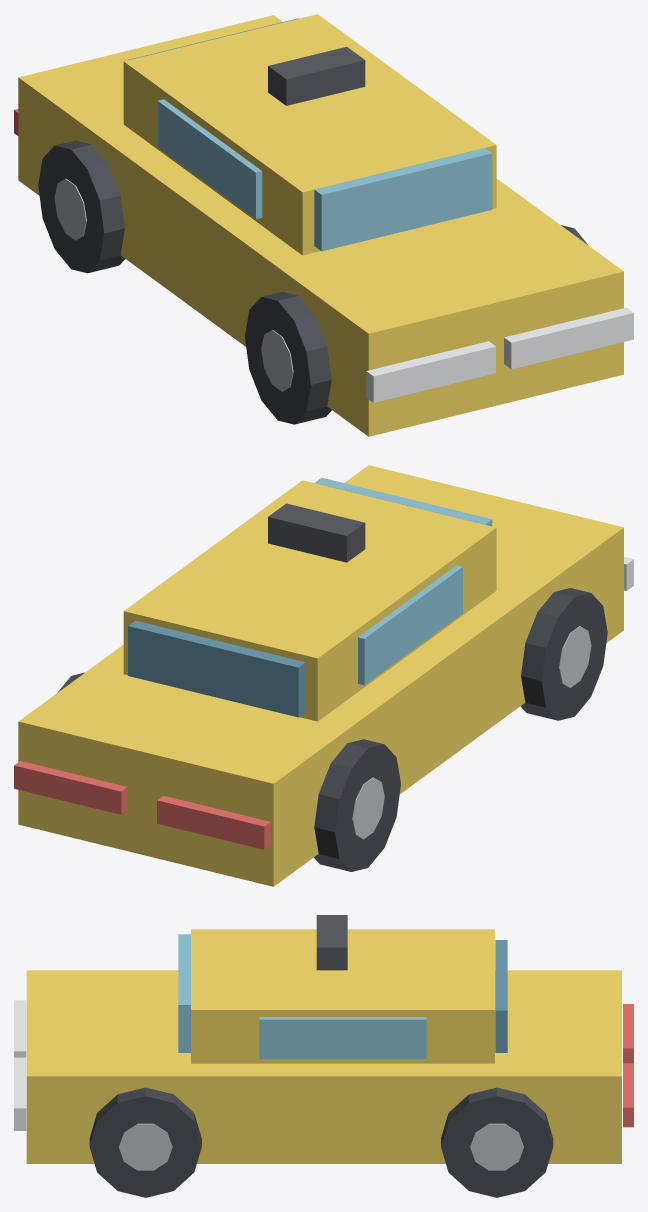
The model's file is traffic_taxi_yellow.glb.
3 renders of one model, top to bottom at view 1: azimuth 30°, elevation 25°; view 2: azimuth 150°, elevation 25°; view 3: azimuth 270°, elevation 25°, orthographic. The views are drawn at different scales.
Parts seen in each view (by area): view 1: body_0, roof_1, windshield_2, wheel_RL_10, wheel_FL_6, side_glass_L_4, headlight_R_15, headlight_L_14, taxi_sign_18, rim_RL_11, rim_FL_7; view 2: body_0, roof_1, rear_glass_3, wheel_RL_10, wheel_FL_6, side_glass_L_4, taxi_sign_18, taillight_L_16, taillight_R_17, rim_RL_11, rim_FL_7, windshield_2; view 3: body_0, roof_1, wheel_RR_12, wheel_FR_8, side_glass_R_5, rim_FR_9, rim_RR_13, taxi_sign_18, windshield_2, rear_glass_3, headlight_R_15, headlight_L_14 (+2 smaller).
Boxes of the visible parts, box(x1,y1,x2,y2) form: body_0: box(18, 15, 623, 436); roof_1: box(123, 14, 496, 255); windshield_2: box(314, 148, 492, 251); wheel_RL_10: box(38, 140, 124, 273); wheel_FL_6: box(245, 292, 331, 424); side_glass_L_4: box(157, 99, 262, 219); headlight_R_15: box(504, 307, 633, 369); headlight_L_14: box(366, 341, 495, 402); taxi_sign_18: box(268, 46, 365, 105); rim_RL_11: box(54, 178, 86, 240); rim_FL_7: box(261, 330, 293, 391); body_0: box(18, 465, 623, 886); roof_1: box(123, 480, 496, 721); rear_glass_3: box(128, 620, 305, 717); wheel_RL_10: box(314, 739, 400, 871); wheel_FL_6: box(520, 588, 607, 720); side_glass_L_4: box(358, 565, 462, 685); taxi_sign_18: box(268, 503, 365, 562); taillight_L_16: box(157, 795, 270, 849); taillight_R_17: box(14, 761, 127, 814); rim_RL_11: box(352, 777, 384, 839); rim_FL_7: box(559, 626, 591, 687); windshield_2: box(315, 477, 492, 526); body_0: box(26, 970, 621, 1163); roof_1: box(191, 929, 494, 1063); wheel_RR_12: box(441, 1087, 553, 1197); wheel_FR_8: box(89, 1087, 201, 1197); side_glass_R_5: box(259, 1017, 426, 1058); rim_FR_9: box(118, 1123, 172, 1170); rim_RR_13: box(470, 1123, 523, 1170); taxi_sign_18: box(316, 915, 347, 970); windshield_2: box(178, 934, 190, 1052); rear_glass_3: box(495, 940, 507, 1052); headlight_R_15: box(14, 1057, 26, 1130); headlight_L_14: box(14, 1000, 26, 1057).
Bounding box in the file's own units: 1.88 × 1.45 × 3.98.
